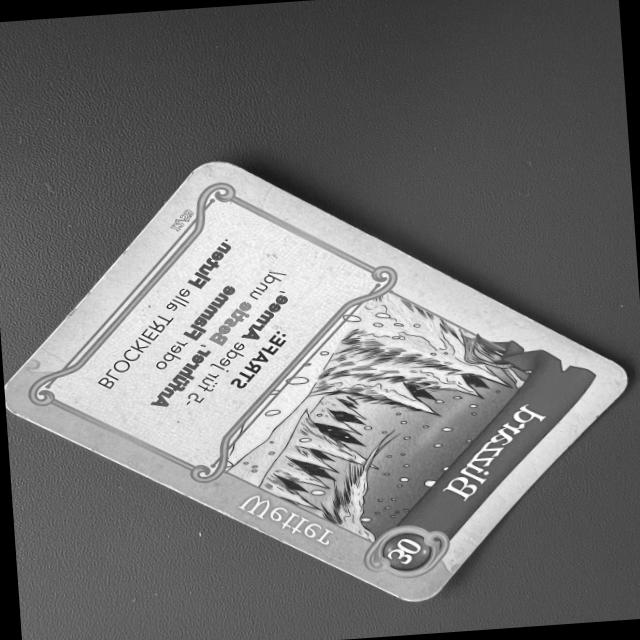Blizzard: (4, 149, 636, 602)
